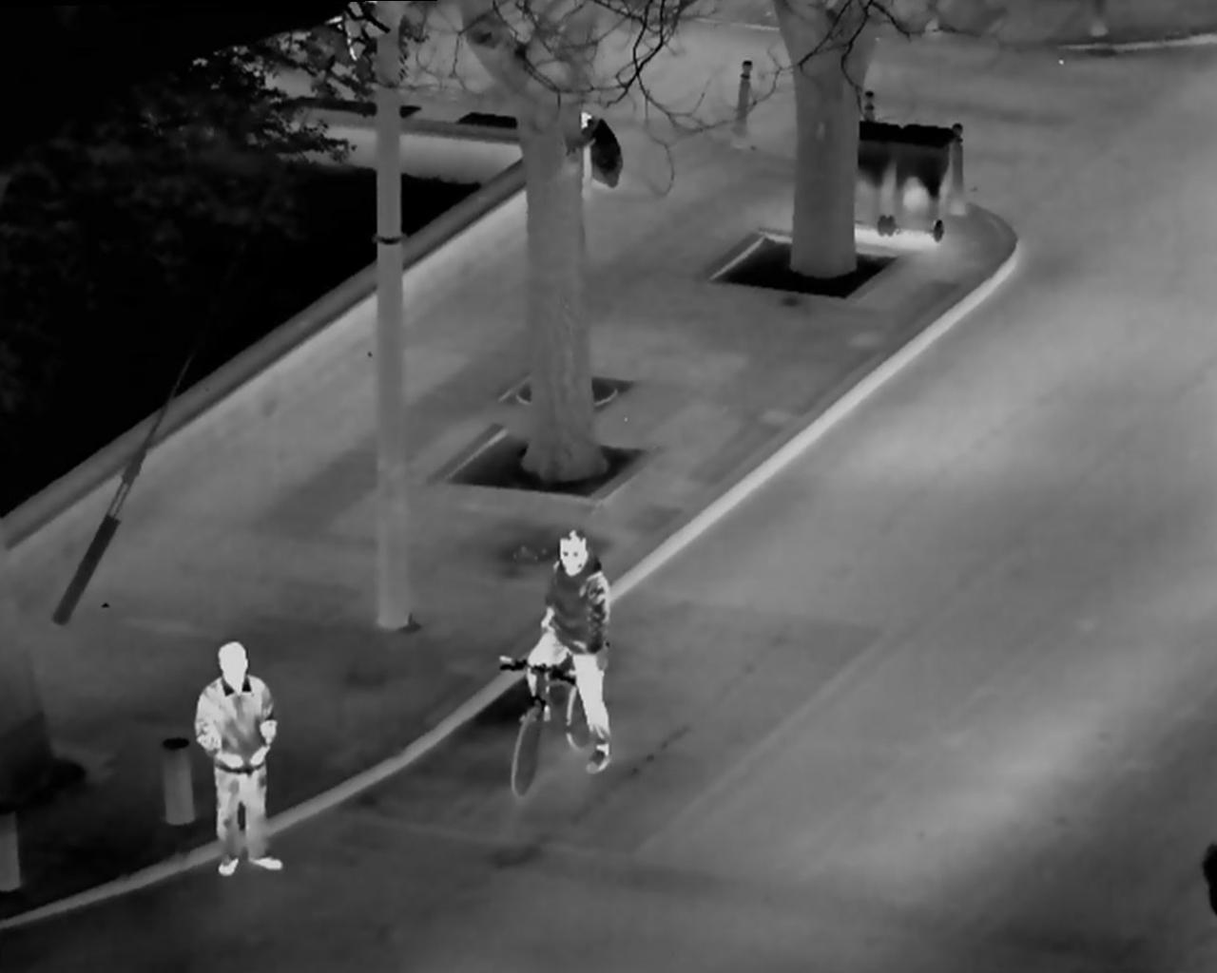person: (492, 527, 625, 797), (181, 630, 301, 887)
